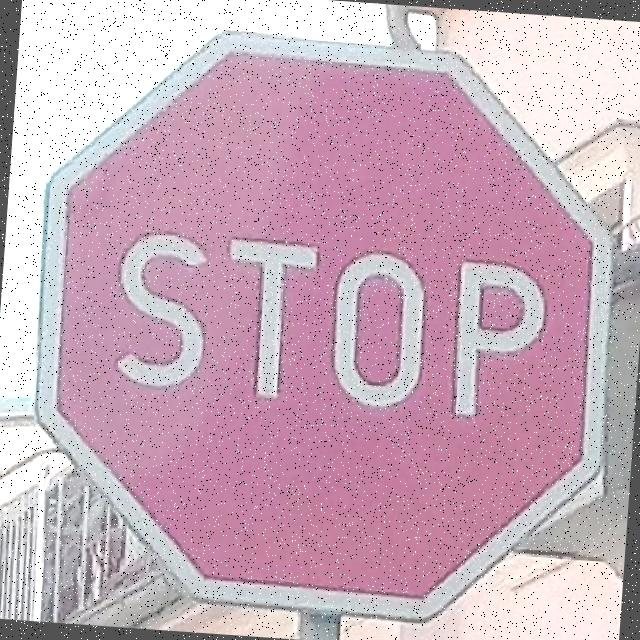Stop: (13, 17, 629, 636)
